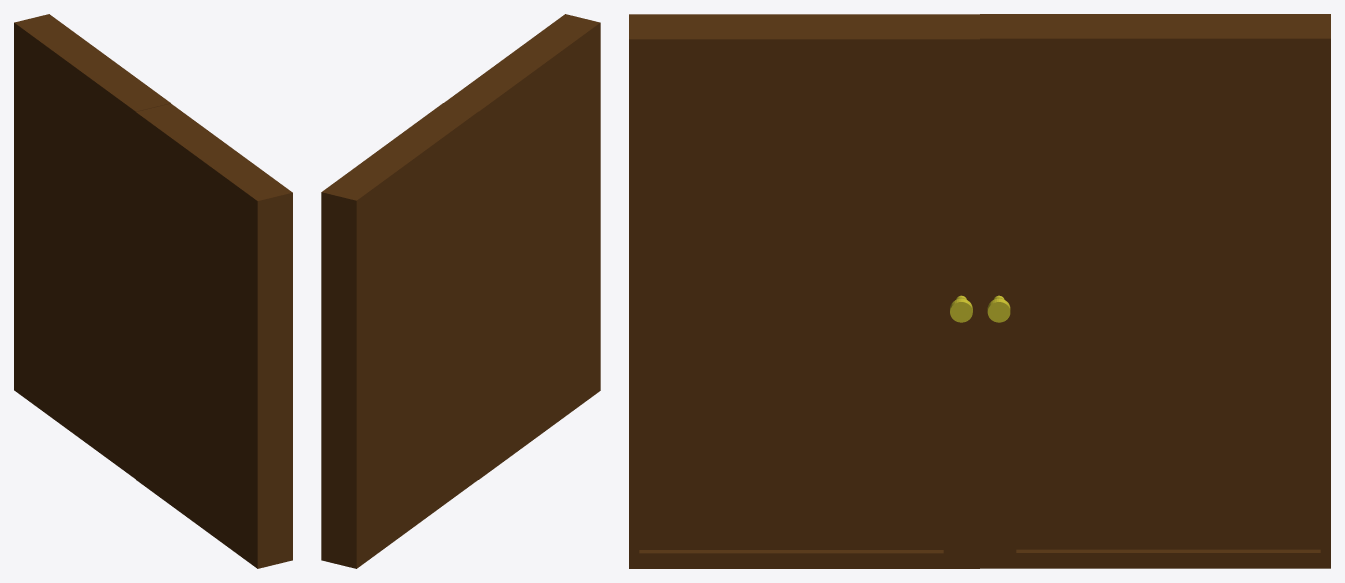
File: maindoor.fbx
3 views of the same model, side by side, from view 1: azimuth 30°, elevation 25°; view 2: azimuth 150°, elevation 25°; view 3: azimuth 270°, elevation 25° (orthographic). The views are drawn at different scales.
Parts seen in each view (by area): view 1: Cylinder.001, Cylinder.004; view 2: Cylinder.004, Cylinder.001; view 3: Cylinder.004, Cylinder.001.
Part boxes in pixels (x1,y1,x2,y2): Cylinder.001: (136,103,292,568); Cylinder.004: (14,14,170,479); Cylinder.004: (321,103,478,568); Cylinder.001: (444,14,600,479); Cylinder.004: (980,14,1330,568); Cylinder.001: (629,14,979,568).
Bounding box in the file's own units: 2.92 × 20.02 × 24.01.
